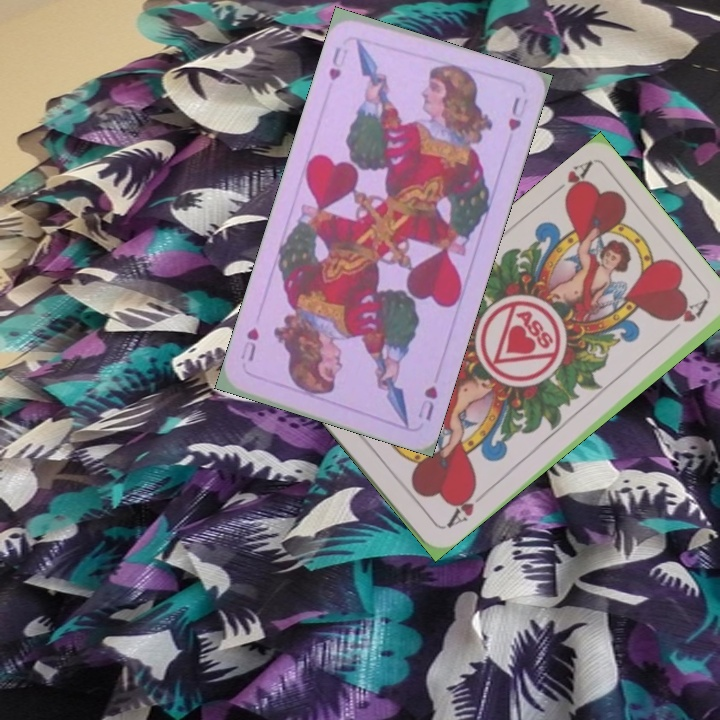HA: (544, 157, 594, 204), (439, 483, 481, 531)
HU: (413, 381, 440, 423), (324, 42, 351, 84)
